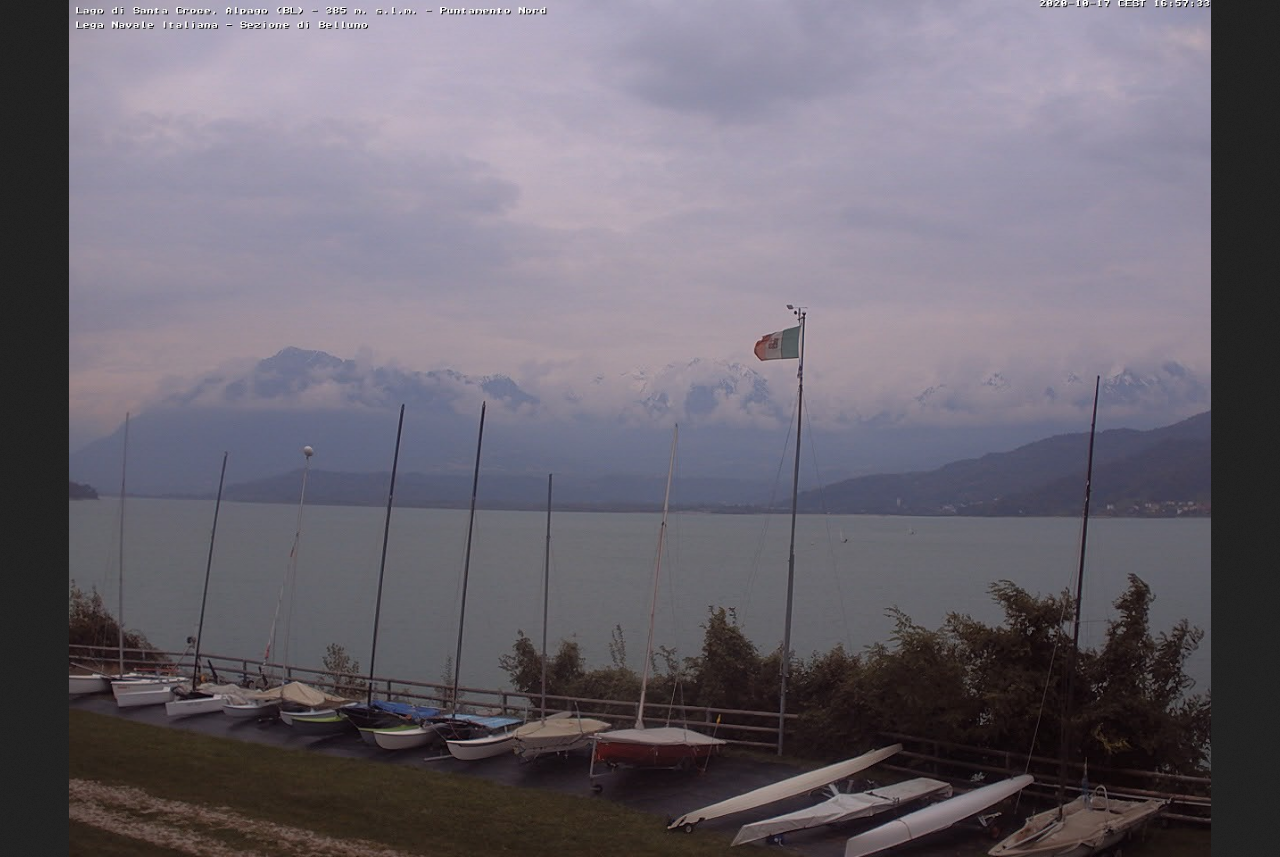yes: (750, 325, 803, 363)
